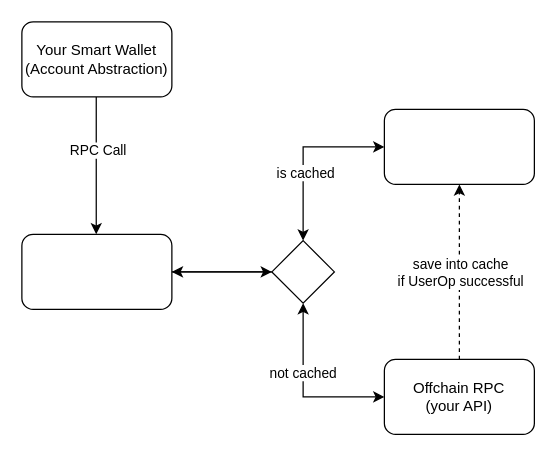
Image size: 556x456. Some labels were removed from this diagram. Here are the shapes that lost their labels. From the top down, the centre of each, then its label:
[458,146]: Response Cache
[96,271]: Bundler
